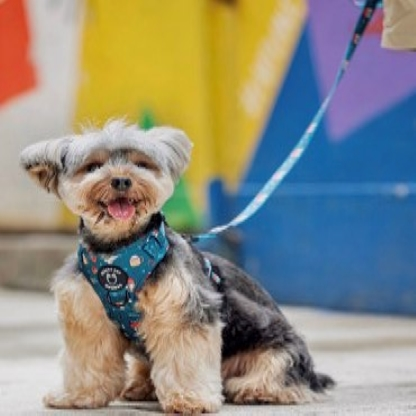yorkshire: (21, 113, 331, 413)
